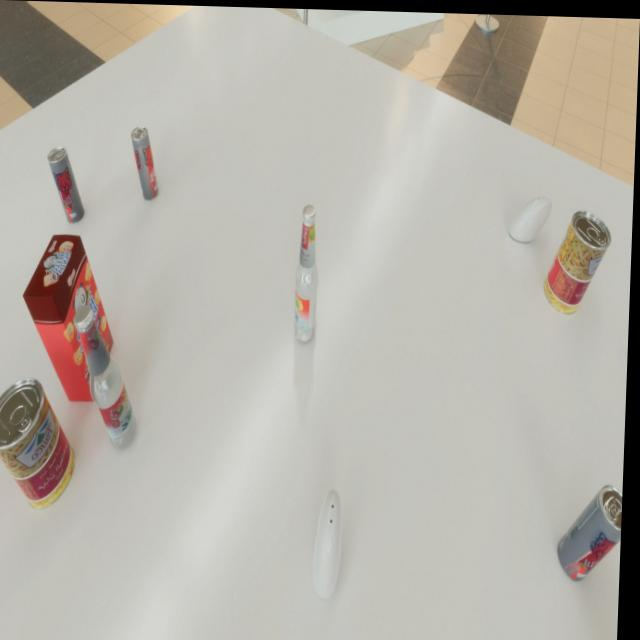Bottle: (73, 304, 144, 451), (295, 203, 323, 343)
HelloPanda: (22, 233, 119, 401)
Potato_sticks: (0, 377, 81, 510), (545, 206, 614, 312)
Rita_zero_sugar: (561, 479, 626, 578), (47, 146, 88, 224), (130, 125, 162, 200)
Salt: (317, 486, 347, 597), (510, 192, 554, 239)
